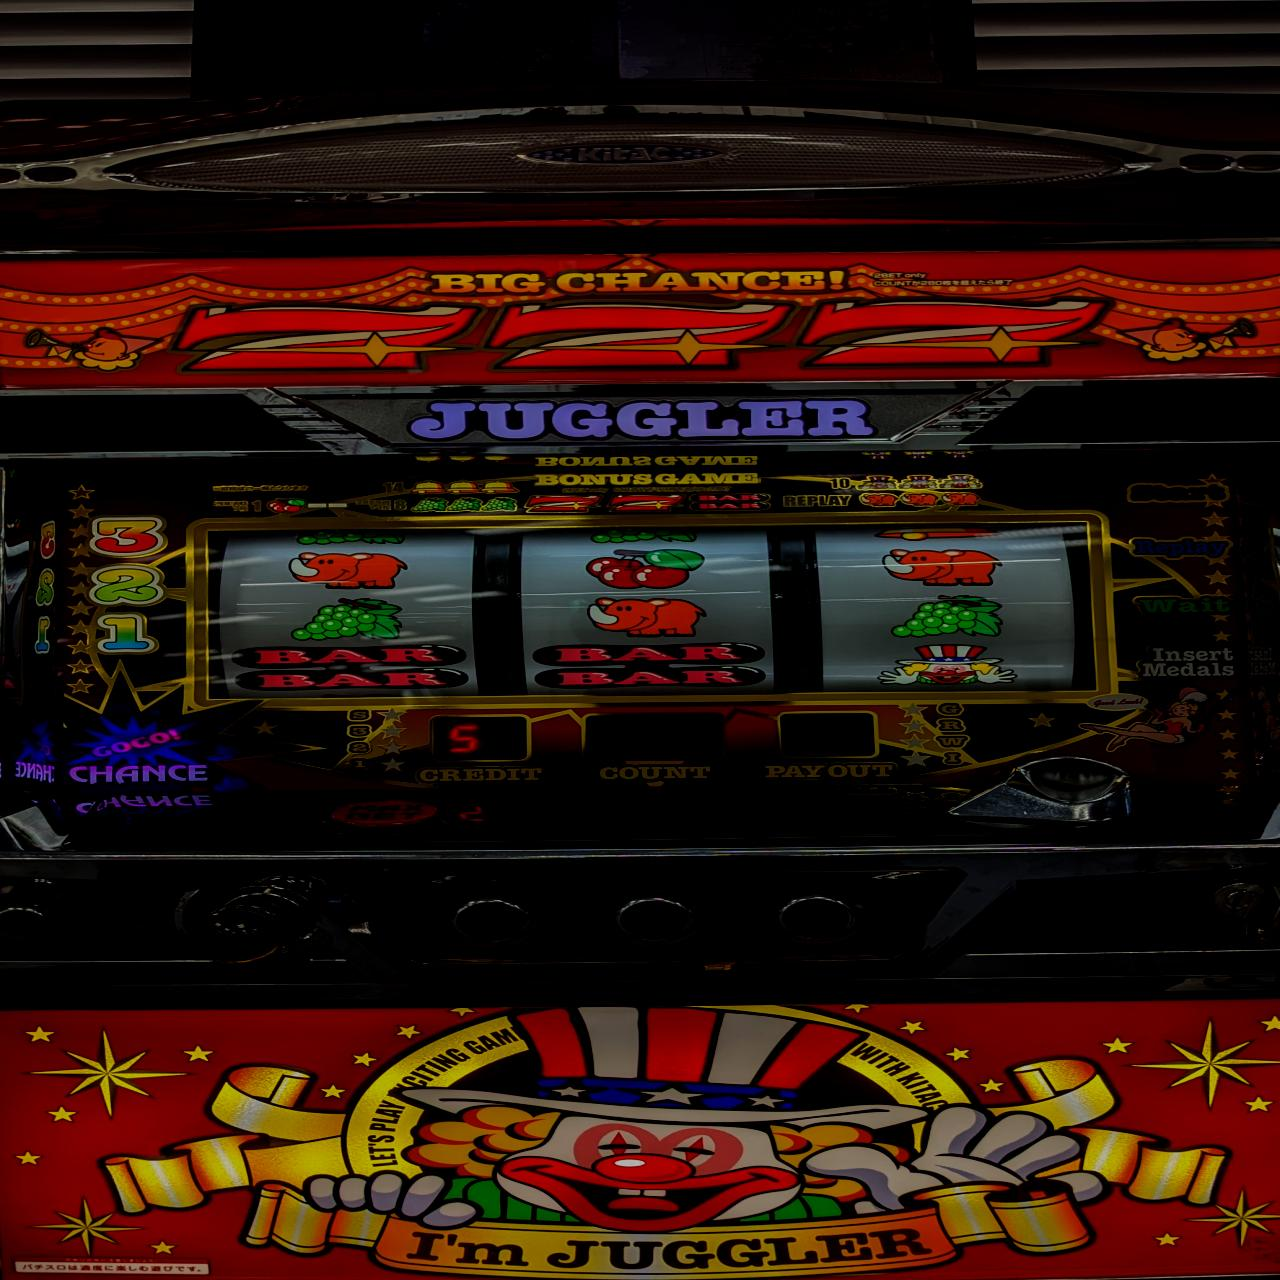Display: (200, 519, 1104, 693)
bar: (223, 642, 474, 693), (531, 639, 771, 688)
cherry: (580, 547, 712, 591)
clown: (873, 641, 1020, 688)
grape: (287, 594, 410, 642), (884, 592, 1008, 639)
rhino: (873, 543, 1009, 588), (282, 549, 420, 592), (584, 594, 714, 639)
